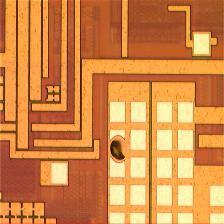PARTICLE: (108, 134, 130, 164)
